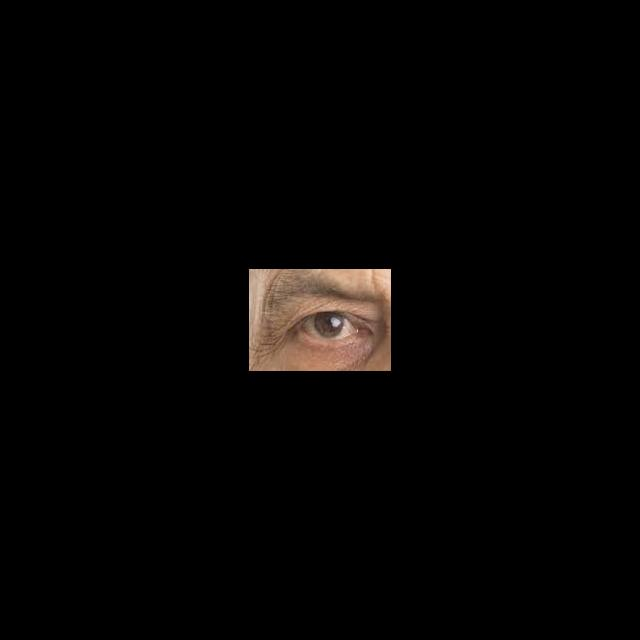eye: (301, 313, 355, 340)
iris: (315, 314, 344, 337)
